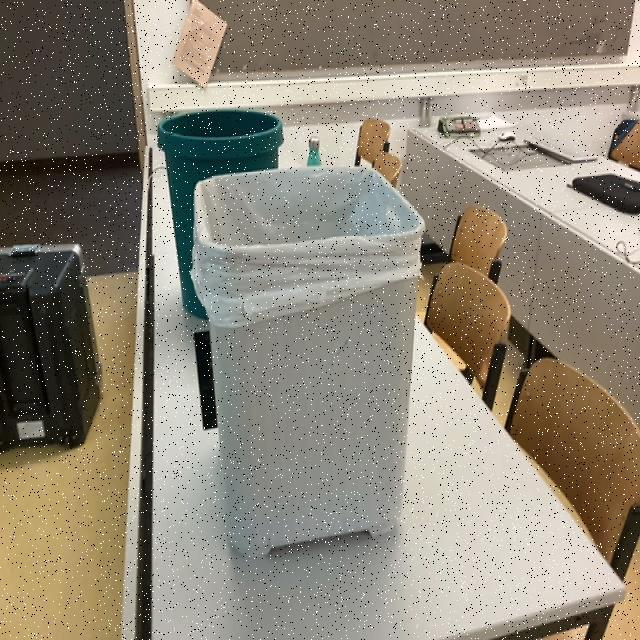garbage container: (181, 175, 445, 578)
